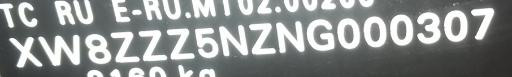letter: (36, 34, 82, 65), (305, 17, 337, 52), (275, 19, 307, 54), (7, 36, 43, 67), (217, 24, 249, 57), (164, 27, 196, 60), (247, 21, 277, 56), (468, 5, 496, 42), (138, 29, 168, 62), (110, 29, 140, 62), (414, 10, 442, 45), (82, 33, 112, 64), (192, 26, 220, 59), (442, 8, 468, 43), (362, 14, 388, 49), (335, 15, 361, 50), (388, 13, 414, 46)
